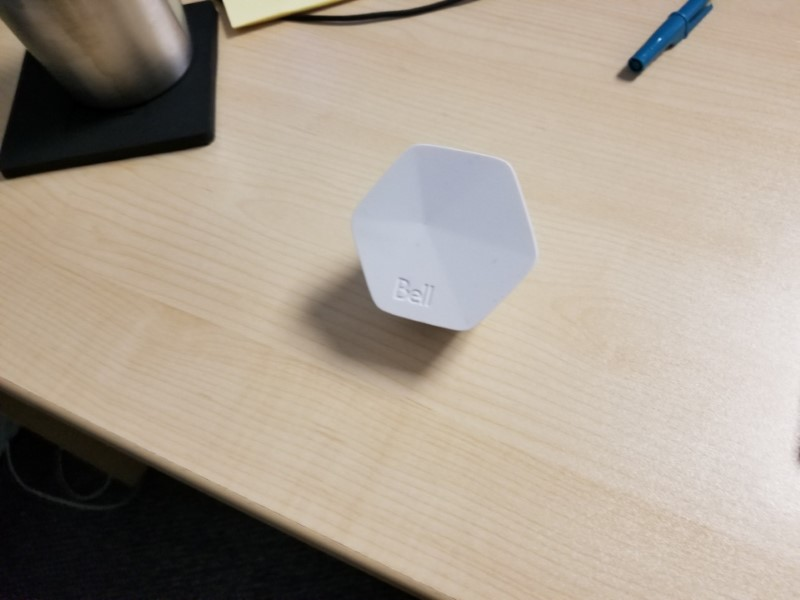pod: (345, 139, 545, 338)
